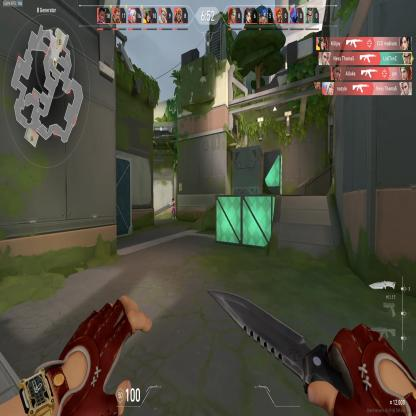enemy: (169, 197, 177, 220)
